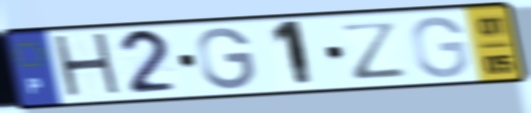1: (269, 18, 318, 90)
2: (113, 27, 187, 101)
G: (194, 25, 258, 92), (409, 14, 472, 80)
H: (49, 30, 127, 102)
Z: (337, 19, 411, 81)
